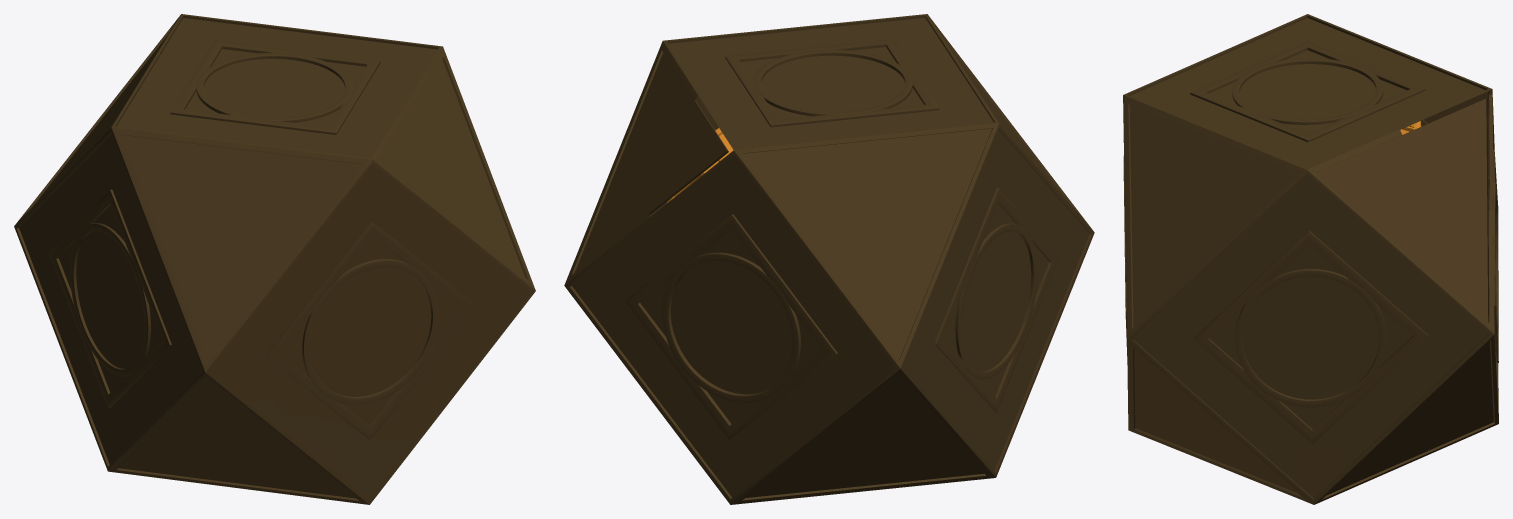
The model's file is Holocron_Nucleo.obj.
3 renders of one model, left to right at view 1: azimuth 30°, elevation 25°; view 2: azimuth 150°, elevation 25°; view 3: azimuth 270°, elevation 25°, orthographic. The views are drawn at different scales.
Parts seen in each view (by area): view 1: Holocron_Nucleo; view 2: Holocron_Nucleo; view 3: Holocron_Nucleo.
Boxes of the visible parts, x1,y1,x2,y2 form: Holocron_Nucleo: (14, 14, 535, 504); Holocron_Nucleo: (564, 14, 1094, 504); Holocron_Nucleo: (1123, 14, 1498, 504).
Size of the model in its own units: 10.34 by 10.48 by 10.46.
